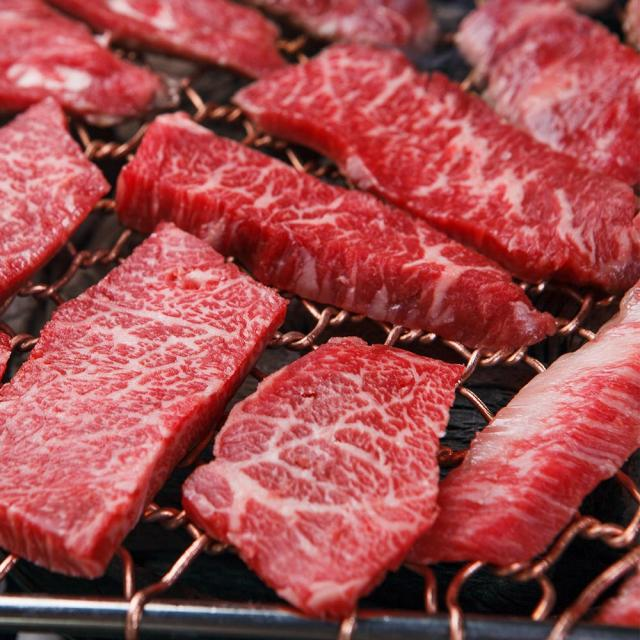beef: (59, 272, 247, 512), (189, 144, 482, 285), (273, 375, 455, 545)
